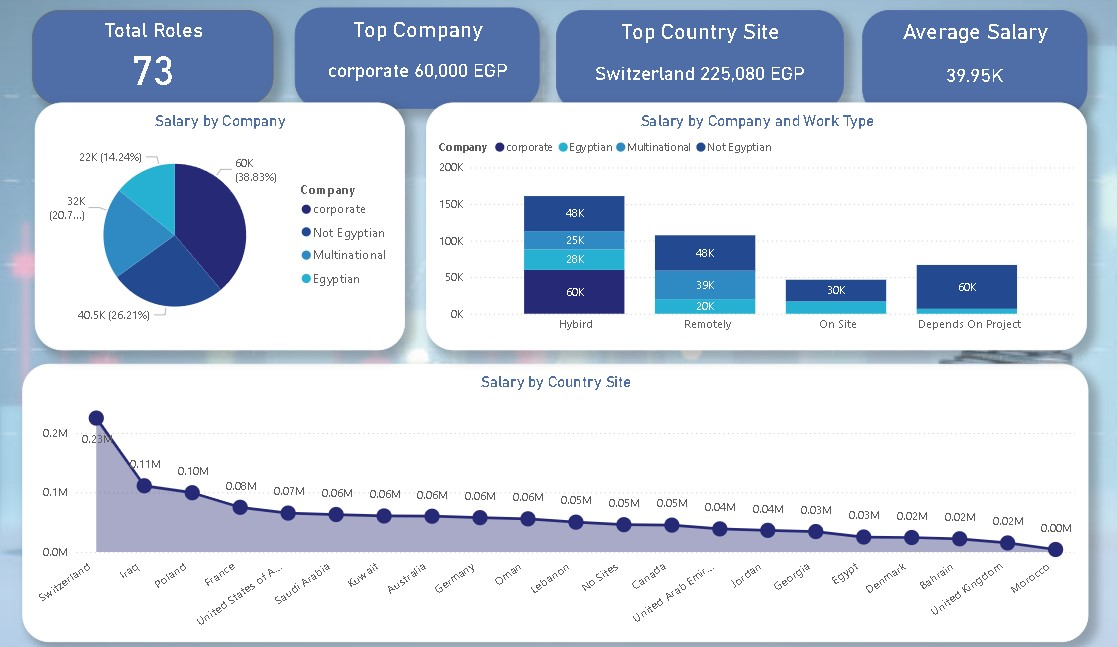

Layout of this report page (visuals, bound fields, positions):
{"tool":"powerbi","page":{"name":"dash1","canvas":[1280,720],"ordinal":0},"visuals":[{"type":"card","title":"Top Company","fields":{"Values":["Salary.Top Company by Median Salary"]},"box":[338.9,13.7,269,111.1],"z":0},{"type":"card","title":"Top Country Site","fields":{"Values":["Salary.Top Country Site by Median Salary"]},"box":[625.7,16.5,315.6,111.1],"z":1000},{"type":"card","title":"Average Salary","fields":{"Values":["Salary.Average Salary"]},"box":[961.9,16.5,247,116.6],"z":2000},{"type":"lineChart","title":"Salary by Country Site","fields":{"Category":["Salary.Country Site"],"Y":["Median(Salary.salary)"]},"box":[39.3,404.8,1170.2,306],"z":3000},{"type":"columnChart","title":"Salary by Company and Work Type","fields":{"Y":["Median(Salary.salary)"],"Series":["Salary.Company"],"Category":["Salary.Work Type"]},"box":[483,118,725.9,271.7],"z":4000},{"type":"card","title":"Total Roles","fields":{"Values":["Salary_clean.Total Roles"]},"box":[50.8,16.5,264.8,104.3],"z":6000},{"type":"pieChart","title":"Salary by Company","fields":{"Category":["Salary.Company"],"Y":["Median(Salary.salary)"]},"box":[53.5,118,406.2,271.7],"z":6001}]}

Visuals, with their boxes in screenshot pixels (x1, y1, x2, y2), scaled from the page's 1280x720 canvas onto the 1117x647 screenshot:
"Top Company" card: (x1=296, y1=12, x2=530, y2=112)
"Top Country Site" card: (x1=546, y1=15, x2=821, y2=115)
"Average Salary" card: (x1=839, y1=15, x2=1055, y2=120)
"Salary by Country Site" lineChart: (x1=34, y1=364, x2=1055, y2=639)
"Salary by Company and Work Type" columnChart: (x1=421, y1=106, x2=1055, y2=350)
"Total Roles" card: (x1=44, y1=15, x2=275, y2=109)
"Salary by Company" pieChart: (x1=47, y1=106, x2=401, y2=350)
